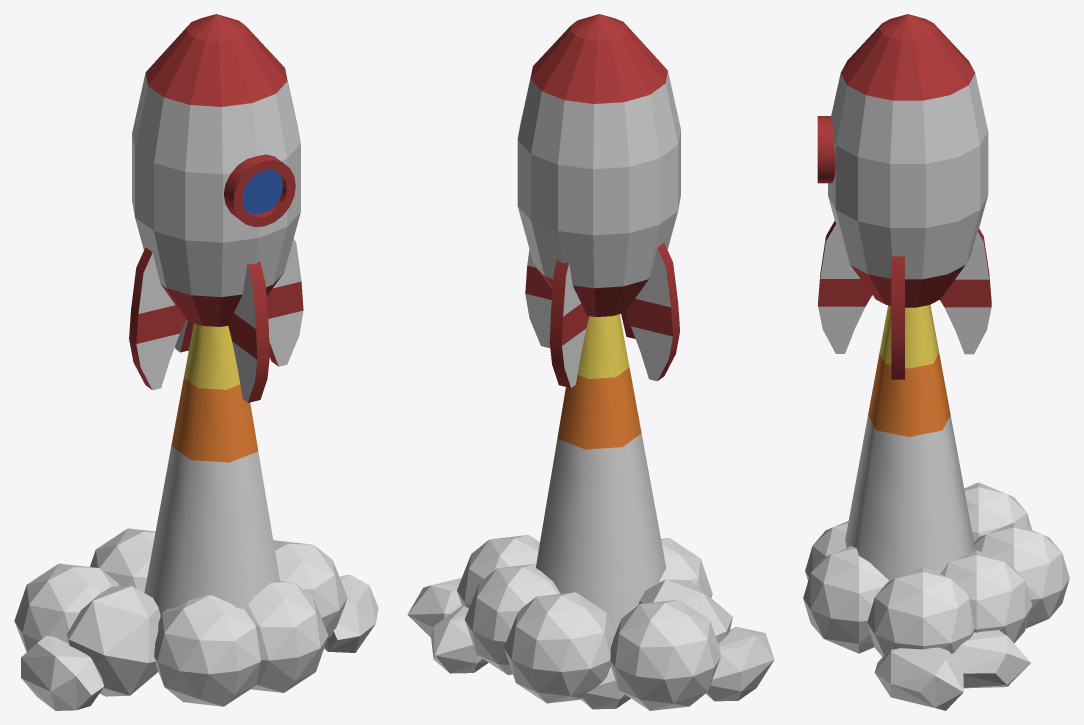
File: RocketShip.gltf
3 renders of one model, left to right at view 1: azimuth 30°, elevation 25°; view 2: azimuth 150°, elevation 25°; view 3: azimuth 270°, elevation 25°, orthographic. The views are drawn at different scales.
Visible parts, largest first — view 1: node-0; view 2: node-0; view 3: node-0.
Part boxes in pixels (x1,y1,x2,y2): node-0: [14, 14, 378, 710]; node-0: [407, 14, 774, 710]; node-0: [803, 14, 1069, 710].
Size of the model in its own units: 38.34 by 71.44 by 27.56.
